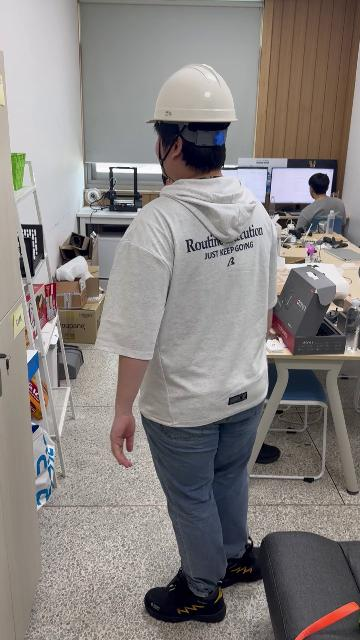helmet_worn: (145, 62, 240, 123)
shoe_not_worn: (254, 442, 281, 464)
shoe_worn: (145, 568, 226, 623), (219, 540, 261, 588)
vest_not_worn: (112, 188, 266, 428)
